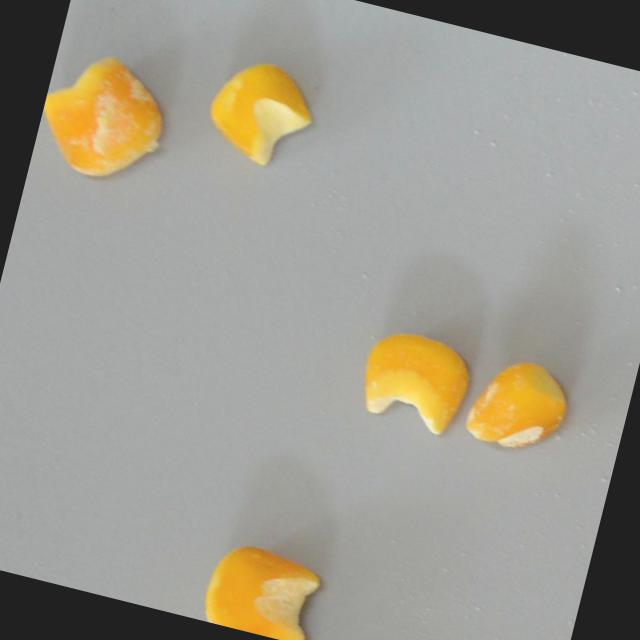no_canjicado: (198, 50, 323, 174), (351, 321, 478, 437), (196, 536, 326, 640)
pelicula: (31, 40, 176, 188), (461, 347, 577, 459)
